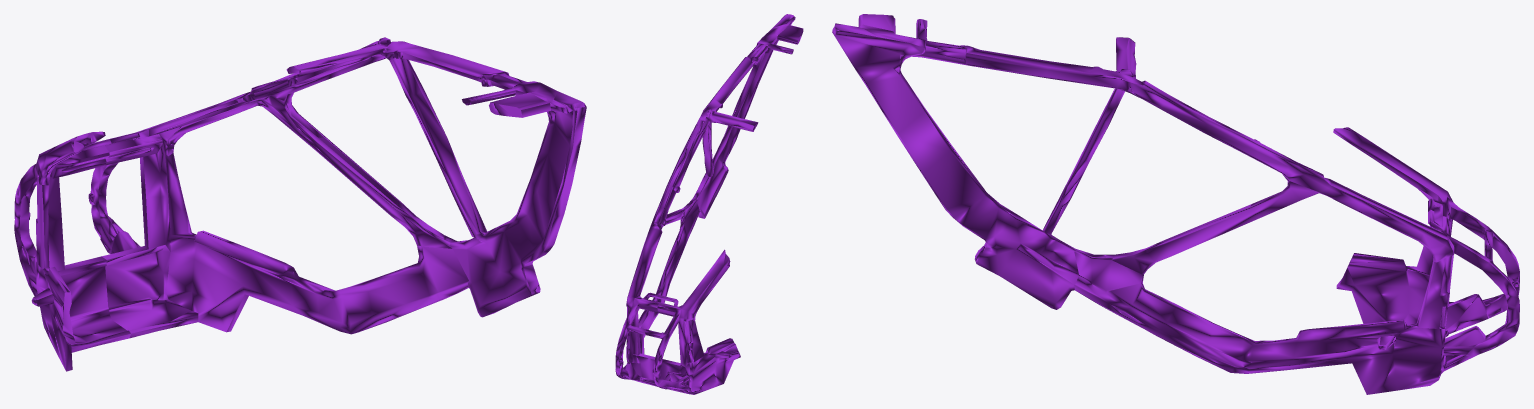
The model's file is scrap_cockpit_rusted_1_b.glb.
The picture shows the model from 3 angles, left to right: view 1: azimuth 30°, elevation 25°; view 2: azimuth 150°, elevation 25°; view 3: azimuth 270°, elevation 25°; orthographic projection. The views are drawn at different scales.
Bounding box in the file's own units: 1.66 × 2.78 × 4.57.
